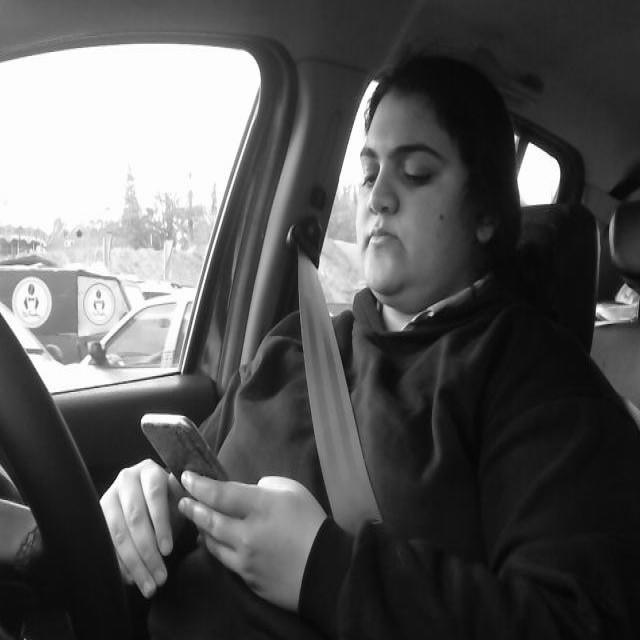mobile use: (142, 407, 242, 492)
